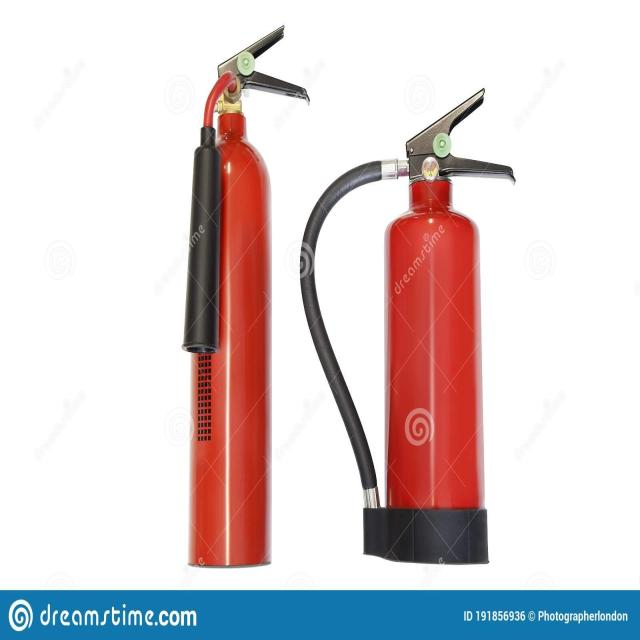fire_extinguisher: (298, 84, 519, 571), (176, 24, 313, 576)
